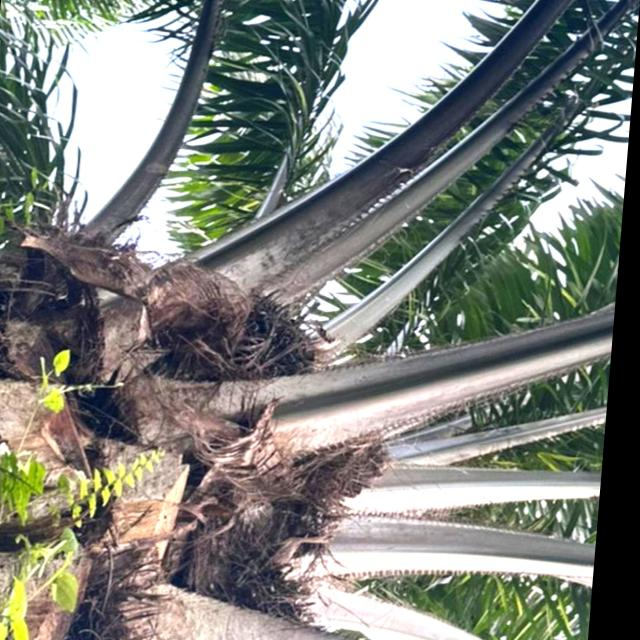unripe: (209, 286, 337, 380)
